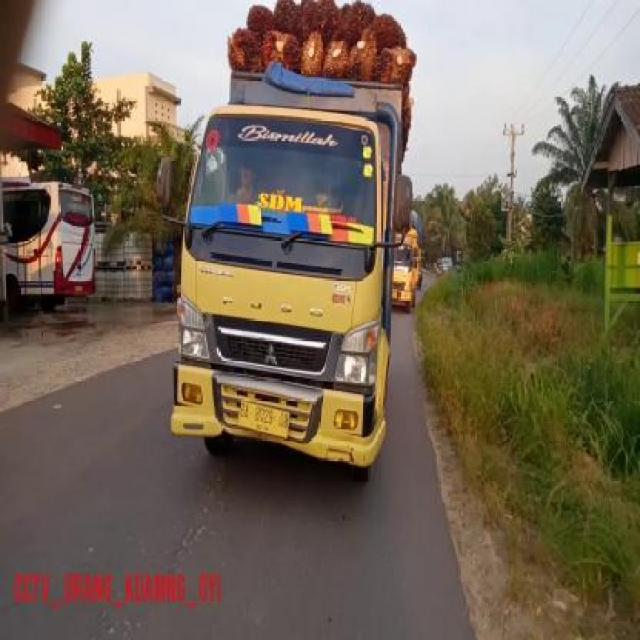truck: (159, 1, 415, 472)
